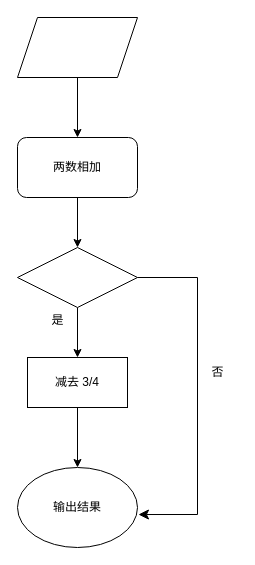
The diagram is 255 pixels wide and 565 high, and some of its shapes have lost their labels. The shapes that lost their labels are listed below. From the top down, each one's box as (x1, y1, x2, y2) in pixels, then its label:
(16, 16, 138, 78): 输入 1/5, 1/3
(16, 246, 138, 308): 是否大于3
